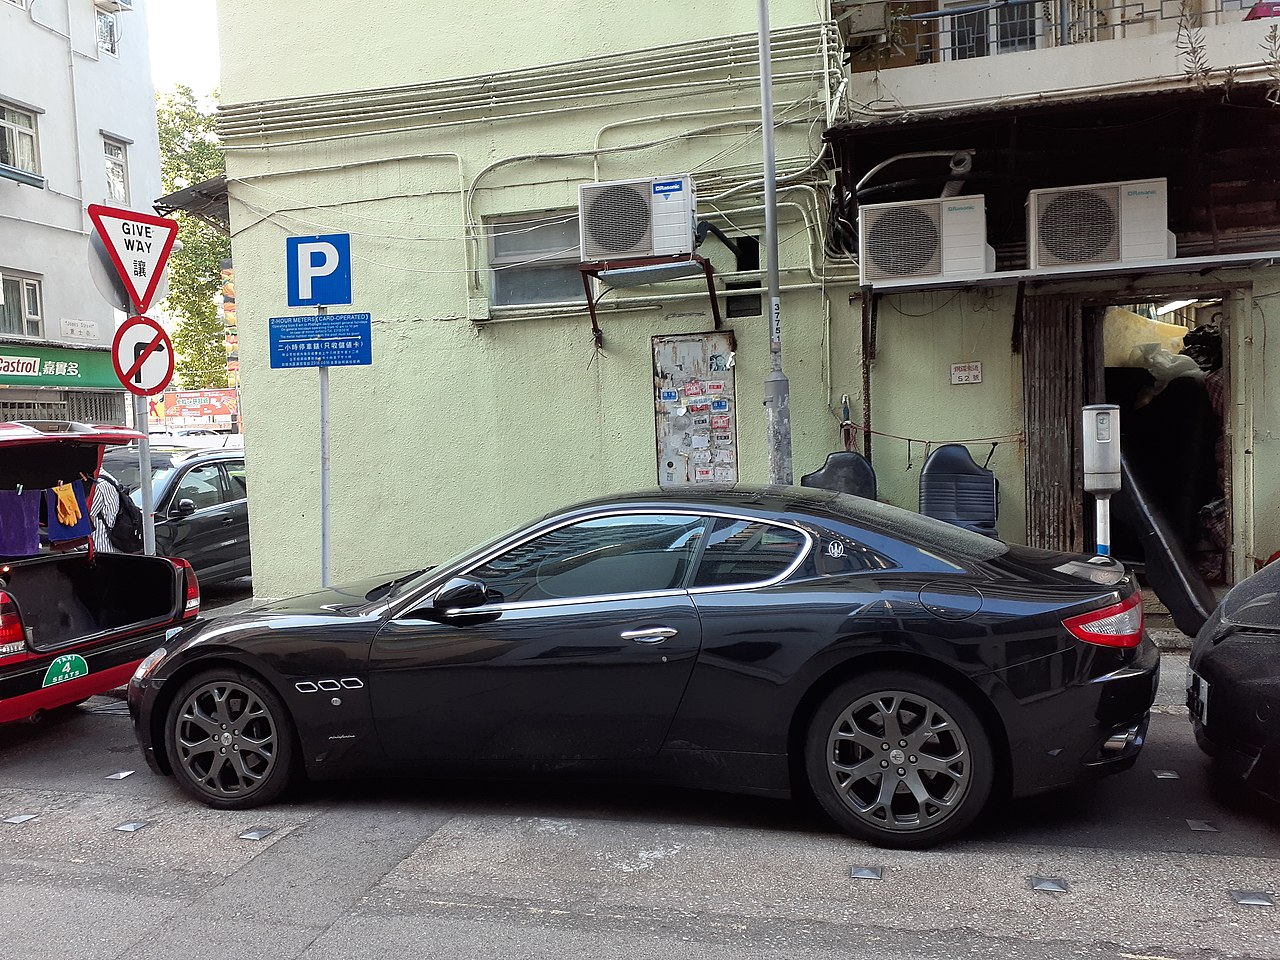Give Way: (83, 201, 182, 317)
No Turn Right: (110, 321, 179, 399)
Parking: (279, 235, 357, 305)
